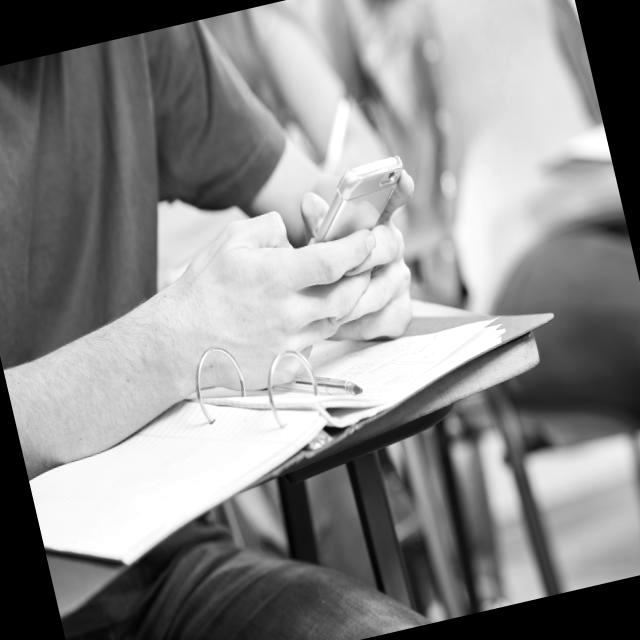phone: (268, 146, 436, 324)
